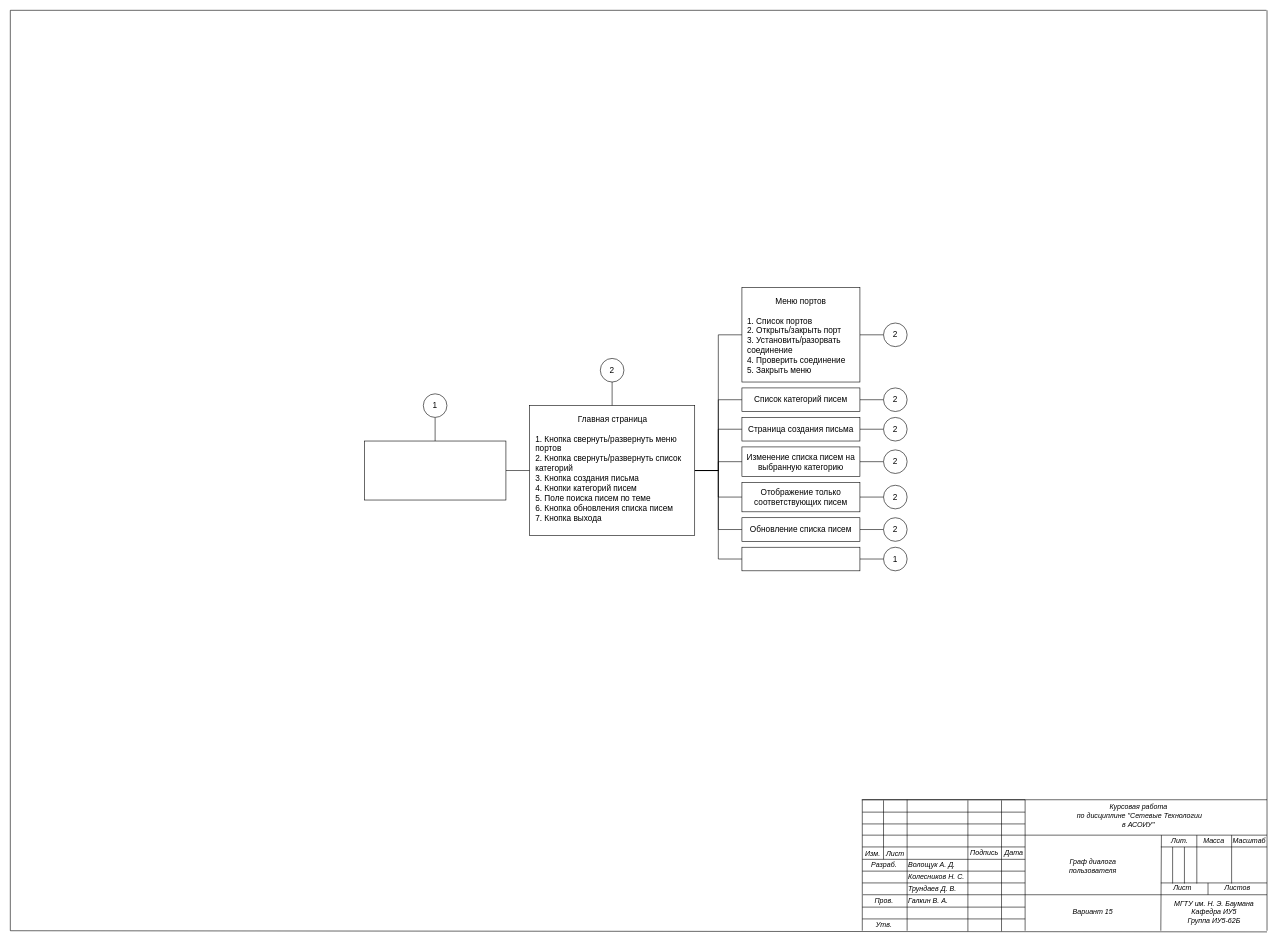
Image size: 1281x945. Some labels were removed from this diagram. Each missing label, with the box of its shape:
Выход: (741, 547, 860, 571)
Страница регистрации 1. Поле ввода строки адреса 2. Кнопка регистрации: (364, 440, 506, 500)
